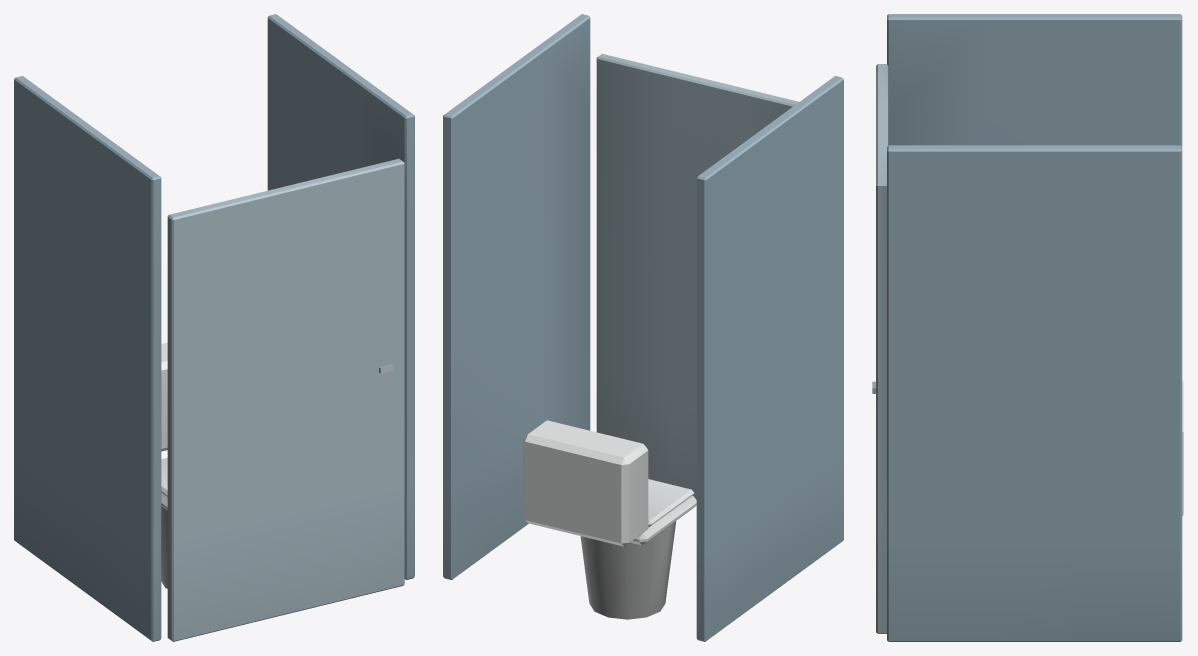
File: toilet.glb
3 renders of one model, left to right at view 1: azimuth 30°, elevation 25°; view 2: azimuth 150°, elevation 25°; view 3: azimuth 270°, elevation 25°, orthographic. The views are drawn at different scales.
Visible parts, largest first — view 1: door, sides, tank, bowl; view 2: sides, door, tank, bowl, seat; view 3: sides, door.
Part boxes in pixels (box(x1,y1,x2,y2)): door: box(167, 158, 404, 641); sides: box(14, 14, 414, 641); tank: box(161, 342, 167, 451); bowl: box(161, 493, 167, 588); sides: box(443, 14, 843, 641); door: box(596, 53, 798, 499); tank: box(523, 420, 648, 546); bowl: box(580, 495, 696, 619); seat: box(648, 479, 694, 526); sides: box(887, 14, 1182, 641); door: box(876, 64, 888, 633).
Bounding box in the file's own units: 1.04 × 1.87 × 1.
